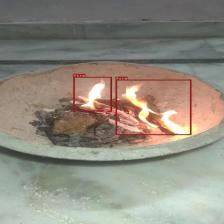fire: (116, 79, 191, 135), (73, 77, 112, 111)
